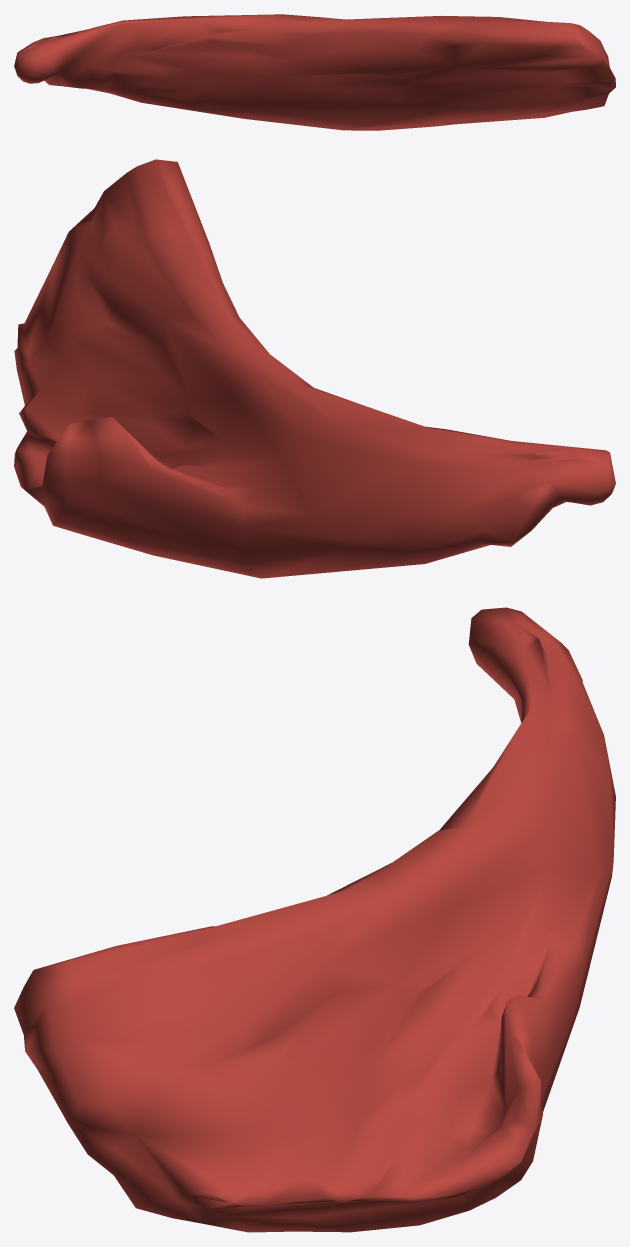
Rendered from musculos-obturator-externus-r.glb.
3 views of the same model, one above another, from view 1: azimuth 30°, elevation 25°; view 2: azimuth 150°, elevation 25°; view 3: azimuth 270°, elevation 25° (orthographic). The views are drawn at different scales.
Visible parts, largest first — view 1: Obturator externus.r; view 2: Obturator externus.r; view 3: Obturator externus.r.
Boxes of the visible parts, box(x1,y1,x2,y2) form: Obturator externus.r: box(14, 14, 615, 130); Obturator externus.r: box(14, 159, 615, 578); Obturator externus.r: box(14, 607, 615, 1232).
Bounding box in the file's own units: 0.0995 × 0.0309 × 0.0582.
